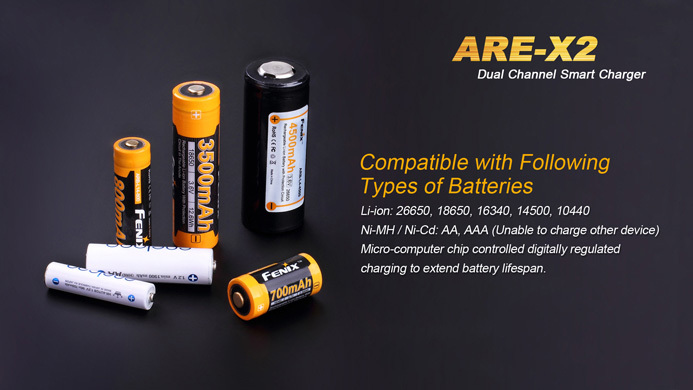Battery: (240, 55, 313, 243), (171, 78, 221, 250), (227, 249, 325, 322), (82, 241, 216, 286), (42, 260, 157, 311), (111, 134, 153, 246)
